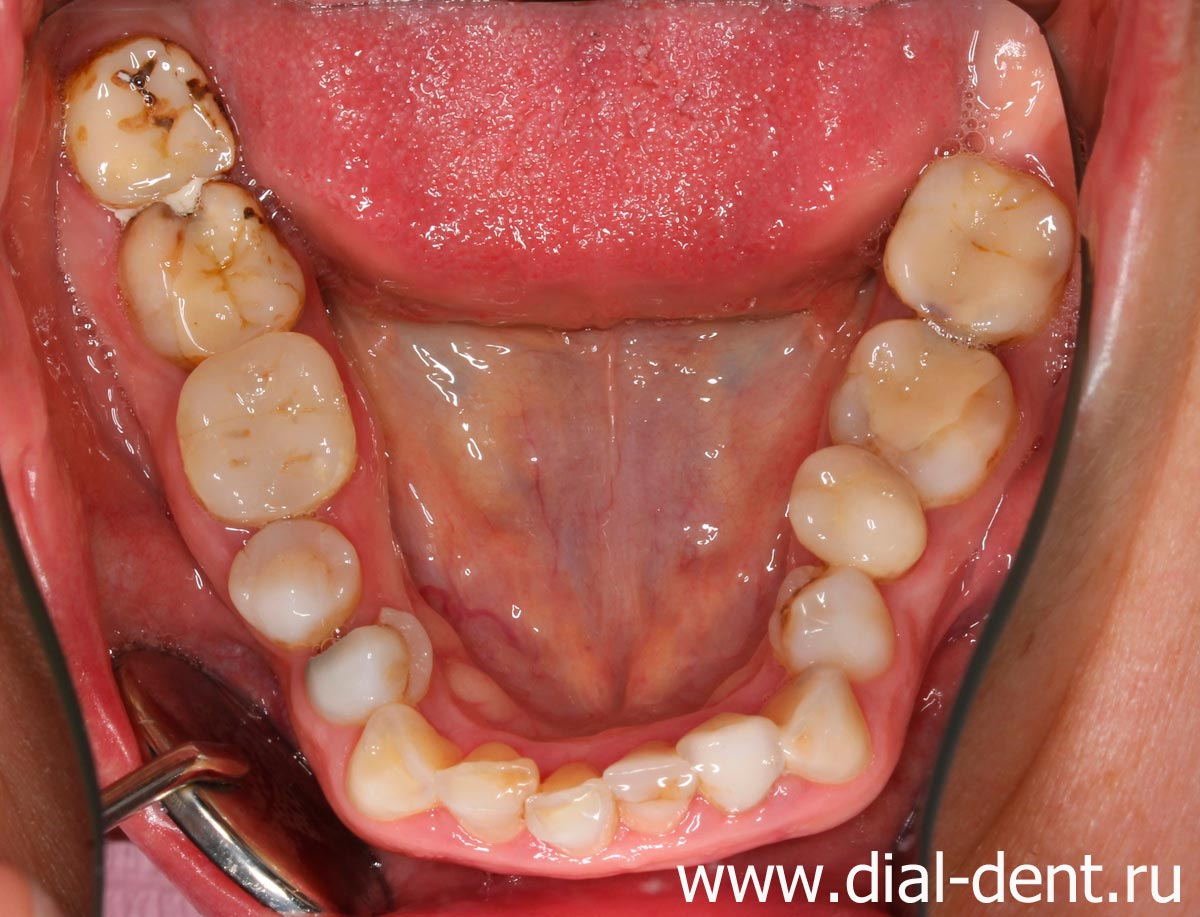LL1BC_decay: (769, 565, 900, 673)
LL1M_healthy: (841, 322, 1005, 491)
LL2BC_healthy: (791, 448, 926, 572)
LL2M_decay: (898, 159, 1076, 333)
LLCI_decay: (611, 739, 698, 834)
LLC_healthy: (774, 659, 875, 784)
LLLI_healthy: (688, 706, 782, 812)
LR1BC_decay: (319, 624, 439, 712)
LR1M_healthy: (176, 338, 358, 517)
LR2BC_healthy: (228, 520, 363, 638)
LR2M_decay: (123, 197, 304, 347)
LR3M_decay: (57, 39, 236, 198)
LRCI_healthy: (532, 763, 618, 851)
LRC_healthy: (358, 698, 447, 813)
LRLI_healthy: (449, 741, 537, 851)
